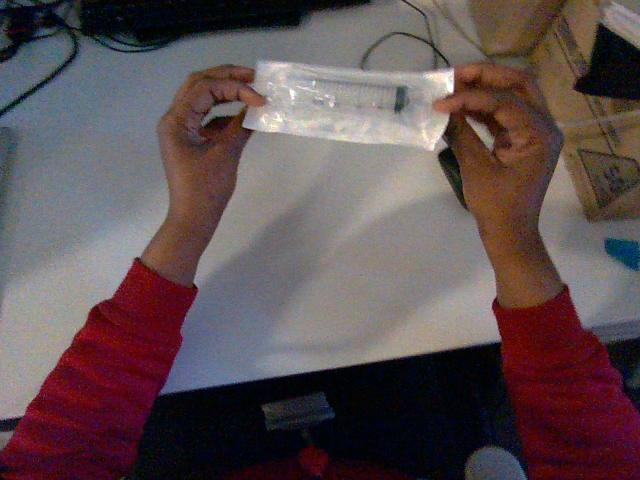syringe: (243, 62, 453, 149)
